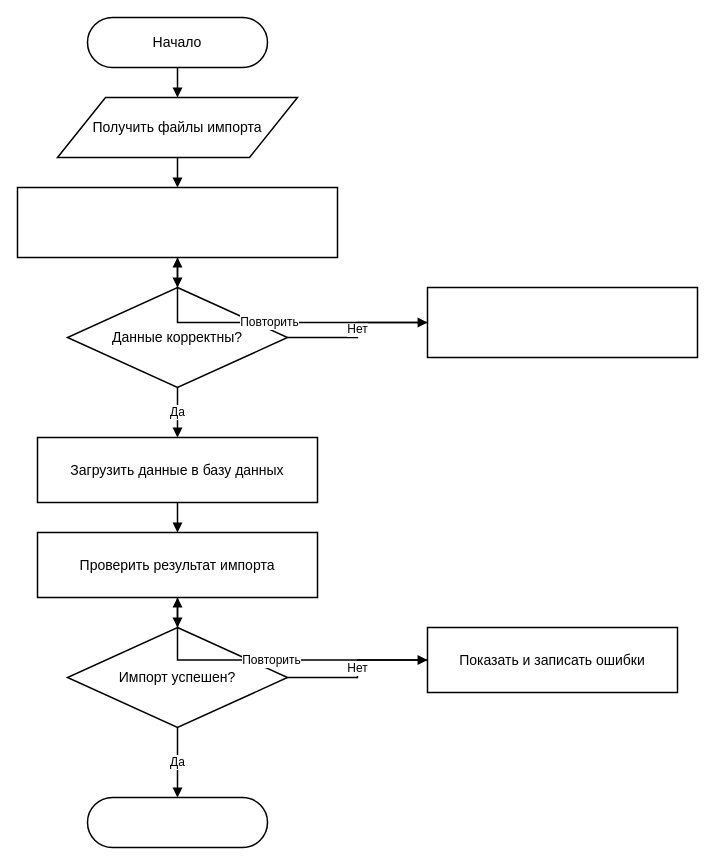
Some shapes in this 716 by 866 pixel diagram are drawn without their labels. Each missing label, with the centre of its shape:
Исправить данные и повторить проверку: (562,322)
Конец: (177,822)
Проверить кодировку, обязательные поля и связи: (177,222)
